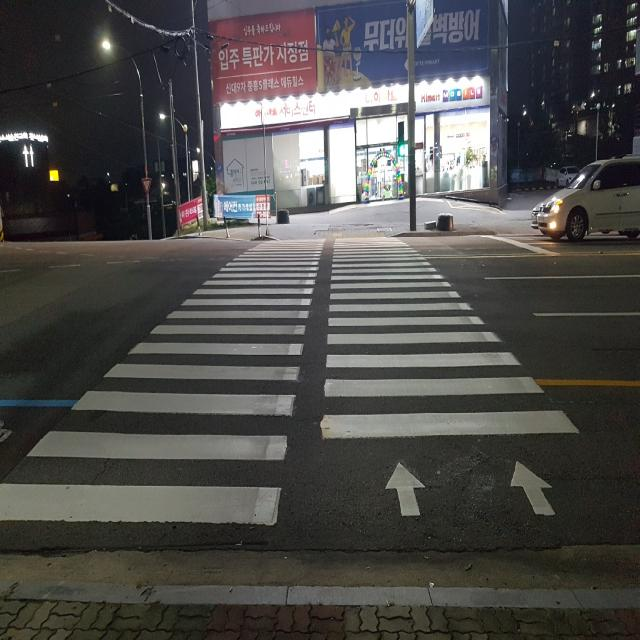횡단보도: (0, 231, 583, 531)
